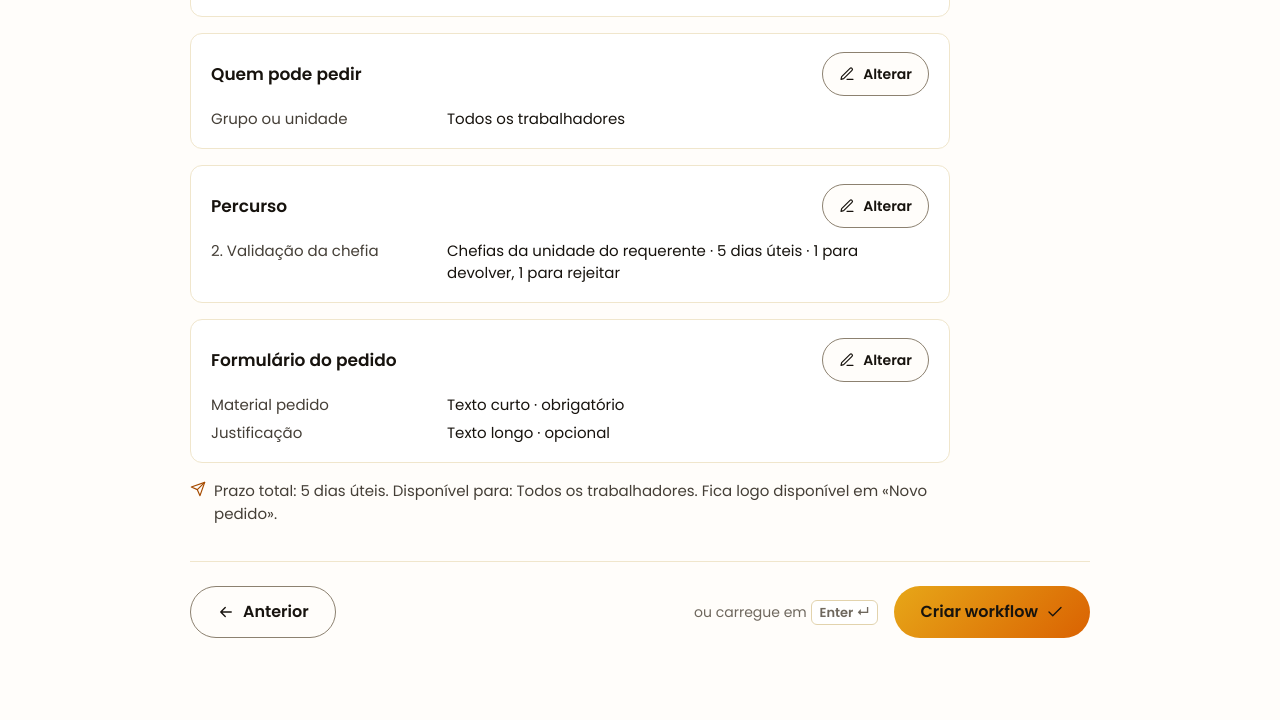
Test case: the request form › is part of the review
(page scrolled)
Click the button named "Alterar Formulário do pedido": click(876, 360) [822,338,929,382]
(page scrolled)
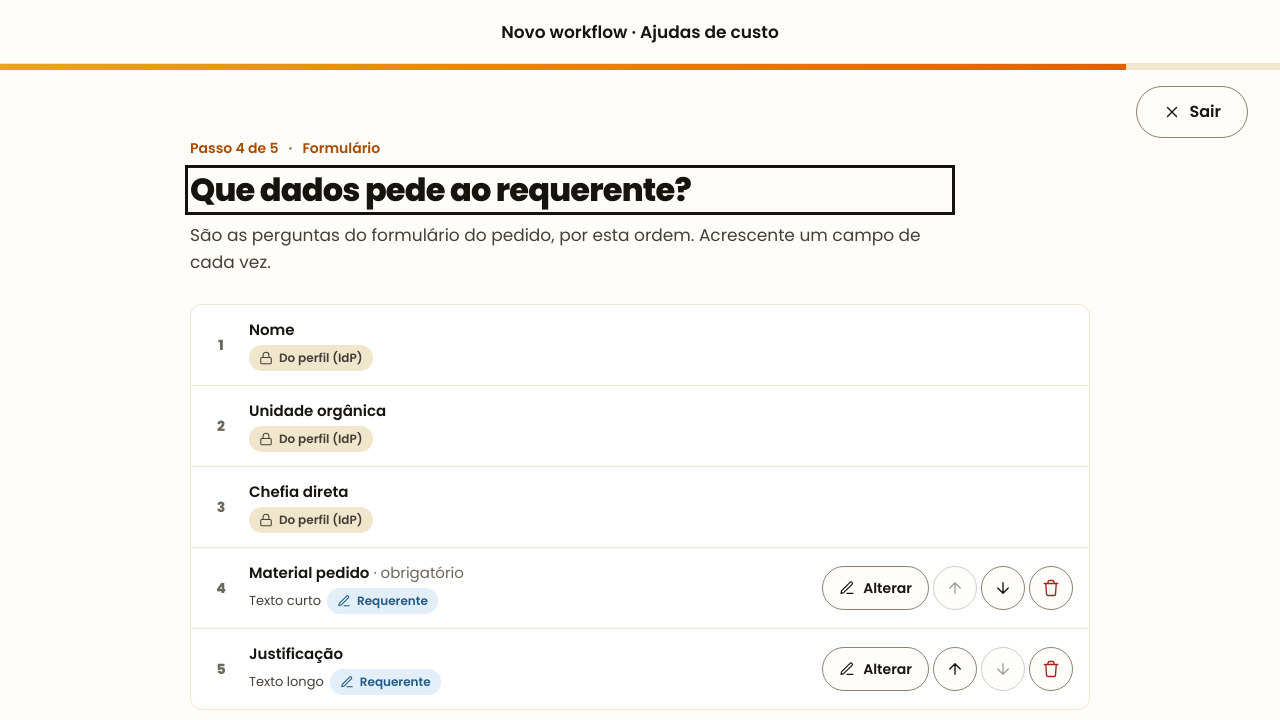
Result: the heading "Que dados pede ao requerente?" is shown at [190,170,950,210]
